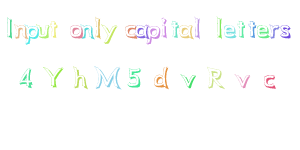4: (16, 64, 37, 91)
5: (125, 64, 145, 91)
I: (3, 14, 14, 41)
M: (93, 64, 124, 92)
R: (204, 64, 227, 92)
Y: (41, 65, 65, 91)
a: (179, 18, 193, 44), (134, 20, 148, 43)
c: (259, 70, 280, 92), (124, 22, 137, 43)
d: (150, 64, 175, 93)
e: (256, 21, 270, 42), (223, 23, 238, 41)
h: (72, 64, 90, 89)
i: (159, 16, 170, 40)
l: (193, 14, 206, 40), (211, 15, 223, 43), (94, 16, 103, 42)
n: (81, 19, 95, 44), (14, 21, 27, 42)
o: (69, 20, 83, 42)
p: (25, 23, 40, 46), (148, 22, 161, 46)
r: (269, 19, 280, 42)
s: (280, 22, 293, 44)
t: (247, 14, 257, 43), (236, 14, 246, 41), (170, 19, 180, 41), (50, 17, 59, 41)
u: (38, 20, 50, 42)
v: (230, 67, 253, 90), (180, 69, 200, 91)
y: (101, 24, 120, 45)
